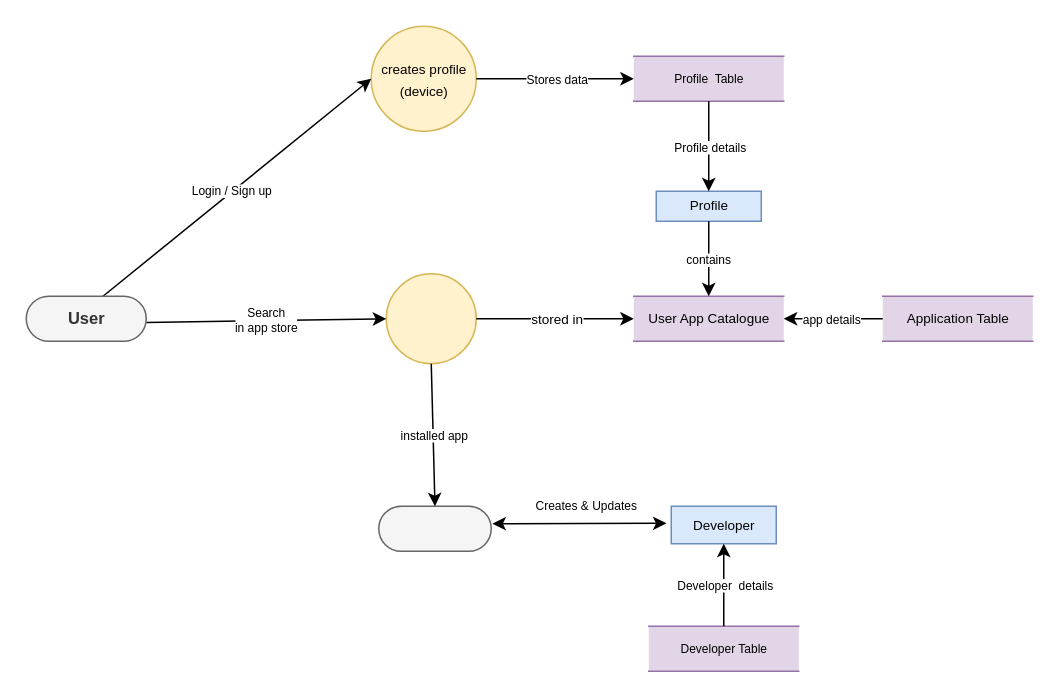
This 1059x698 diagram has some shape labels left out. The centre of each missing label's shape, as x and y in pixels:
Application: the point at 434,528
install app: the point at 430,318
